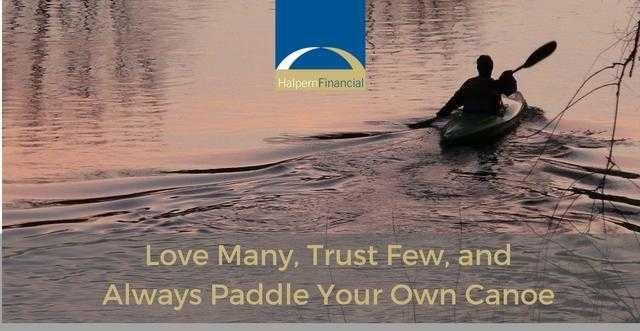kayak: (441, 90, 528, 146)
